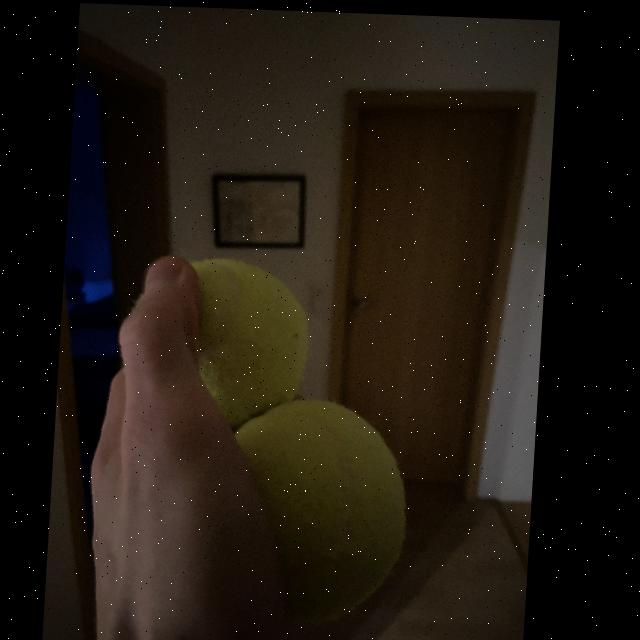Tennisball: (235, 400, 406, 621), (192, 259, 308, 431)
